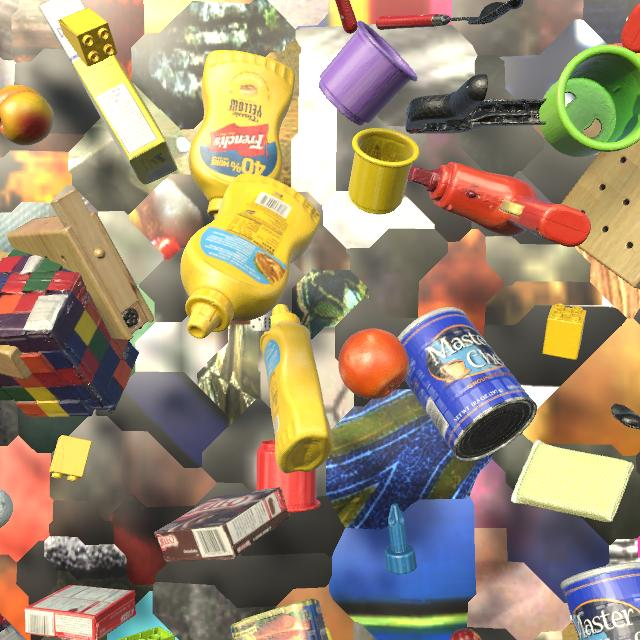ycb_002_master_chef_can: (397, 307, 537, 461), (560, 561, 640, 640)
ycb_004_sugar_box: (38, 0, 177, 185)
ycb_006_mustard_bottle: (180, 173, 321, 339), (189, 50, 295, 219), (260, 304, 333, 474)
ycb_008_pudding_box: (155, 487, 291, 562)
ycb_009_gelatin_box: (24, 585, 136, 640)
ycb_010_potted_meat_can: (230, 599, 329, 640)
ycb_015_peach: (0, 85, 54, 145)
ycb_017_orange: (338, 328, 409, 399)
